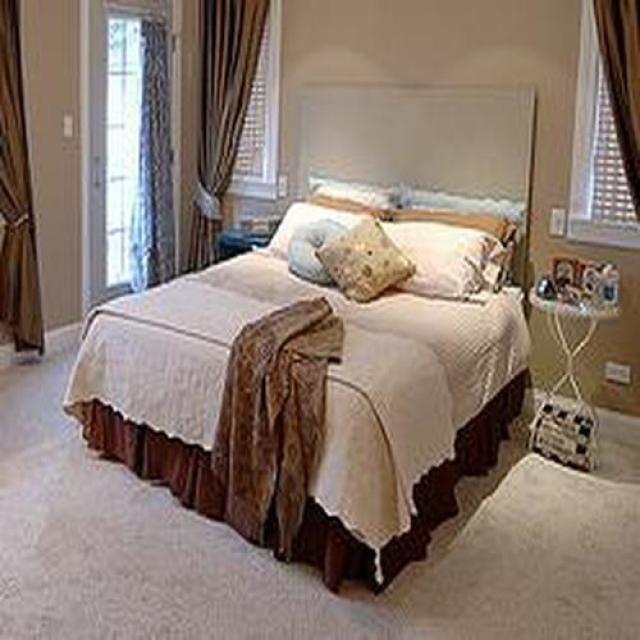bed: (61, 82, 541, 595)
